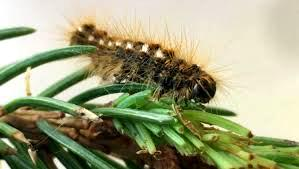Caterpillar: (70, 12, 216, 104)
